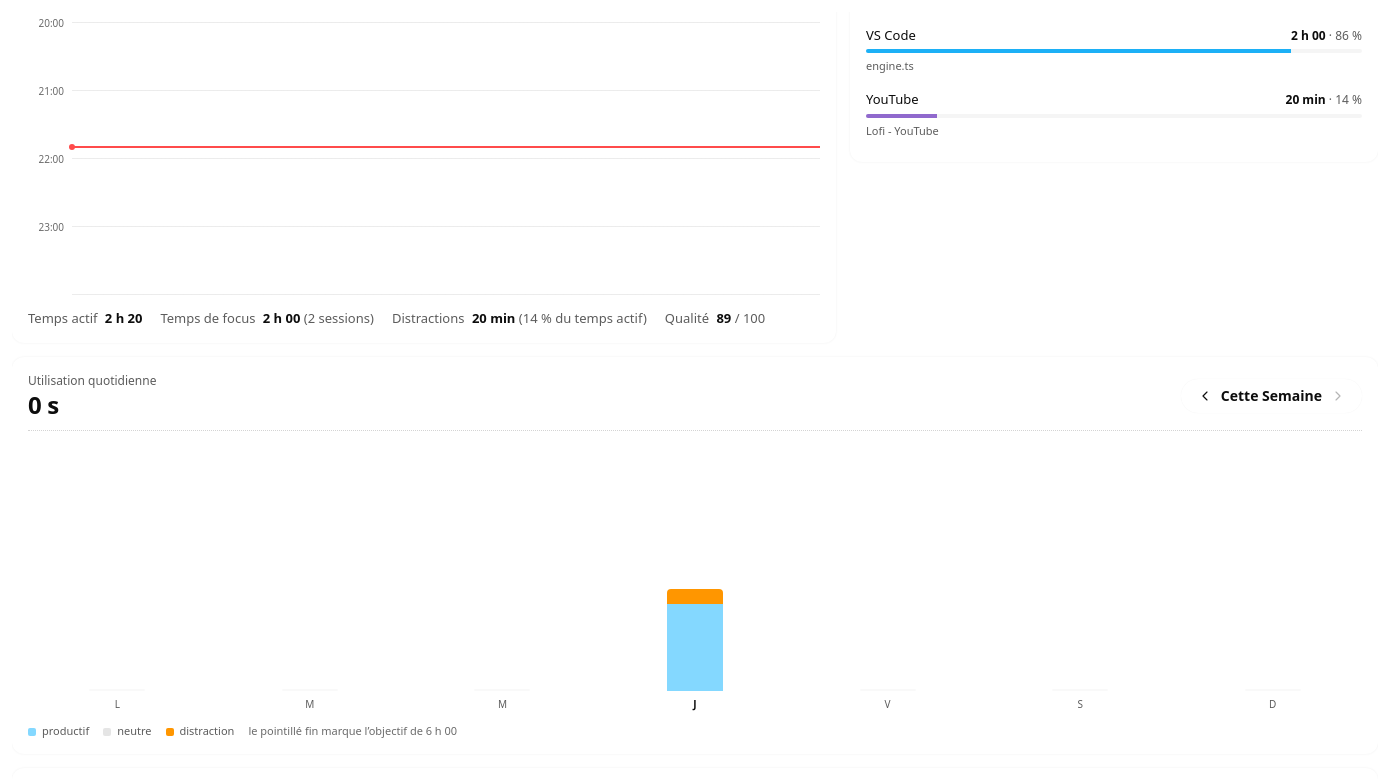
it: page Activité (journée) › recule d'une semaine avec le sélecteur
(page scrolled)
expect the text "Cette semaine" is shown: met, box 1221,387 -> 1322,405
Click the button named "Semaine précédente".
click(1205, 396)  # box 1191,379 -> 1219,413
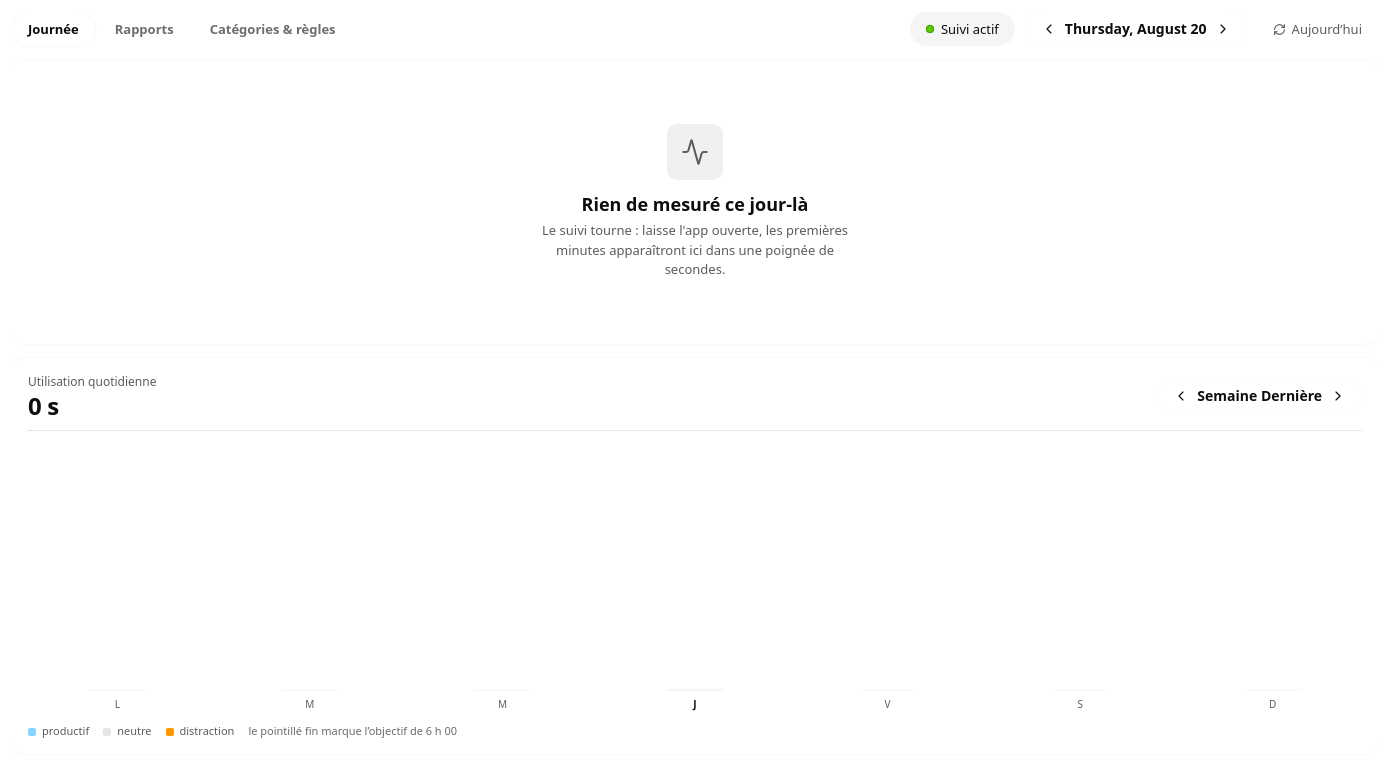
expect the text "Semaine dernière" is shown: met, box 1197,387 -> 1322,406
expect the text "Rien de mesuré ce jour-là" is shown: met, box 582,192 -> 808,217
